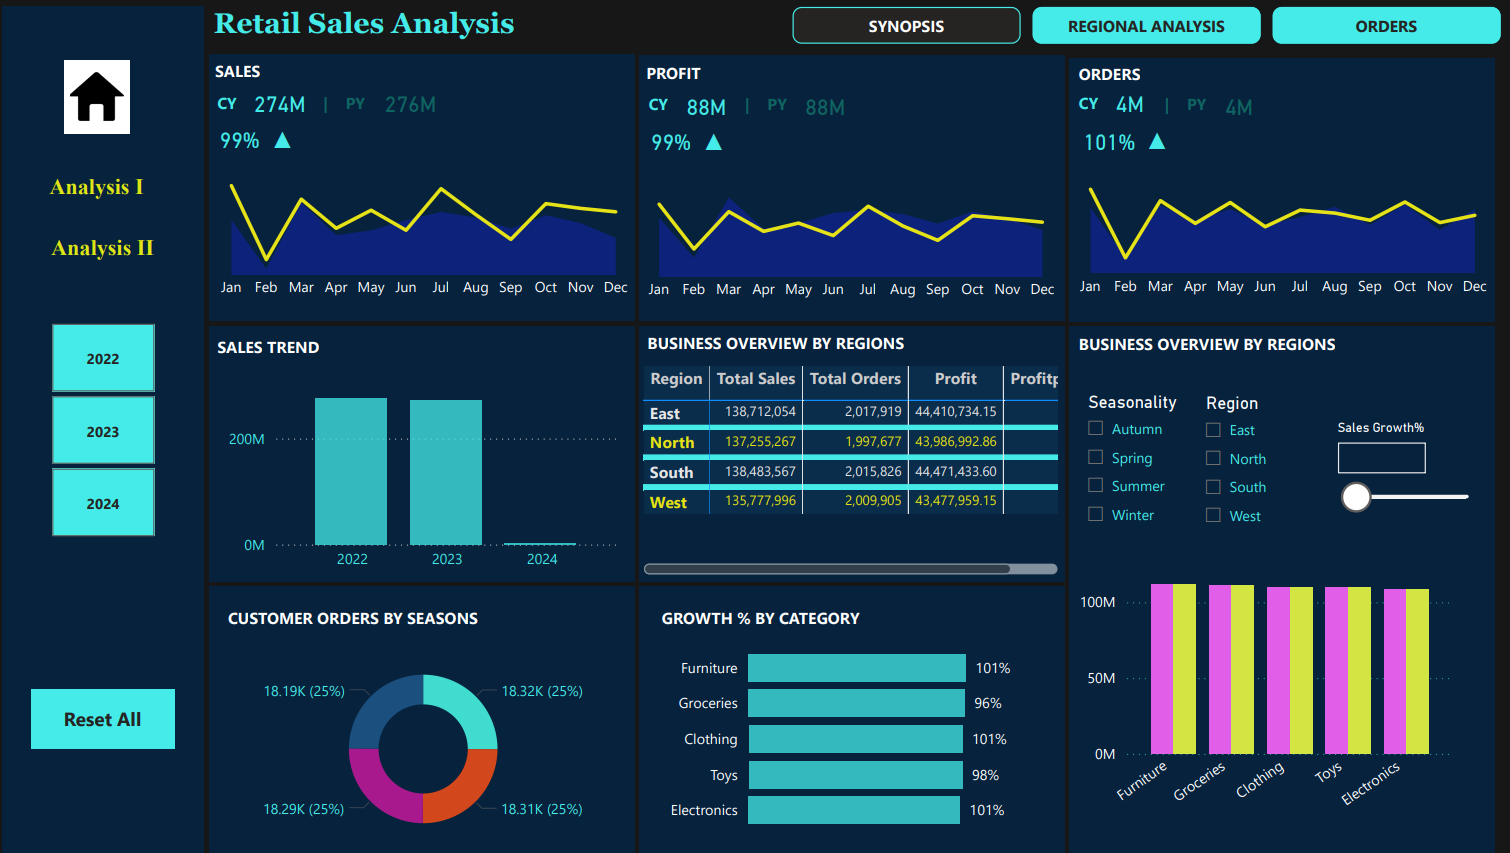

Layout of this report page (visuals, bound fields, positions):
{"tool":"powerbi","page":{"name":"SYNOPSIS","canvas":[1280,720],"ordinal":0},"visuals":[{"type":"shape","box":[543,273.3,358.1,215.1],"z":0},{"type":"shape","box":[543,45.3,358.1,223.3],"z":1000},{"type":"shape","box":[181.4,44.2,358.1,224.4],"z":2000},{"type":"textbox","box":[180.1,0,527.1,44.4],"z":3000},{"type":"areaChart","fields":{"Category":["retail_store_inventory.Month"],"Y2":["retail_store_inventory.CY"],"Y":["retail_store_inventory.PY"]},"box":[182.6,134.9,357,123.3],"z":4000},{"type":"textbox","box":[181.4,44.2,61.6,33.7],"z":5000},{"type":"cardVisual","fields":{"Data":["retail_store_inventory.CY"]},"box":[202.3,51.2,80.2,52.3],"z":6000},{"type":"textbox","box":[182.6,70.9,61.6,39.5],"z":7000},{"type":"textbox","box":[272.1,70.9,61.6,39.5],"z":8000},{"type":"cardVisual","fields":{"Data":["retail_store_inventory.PY"]},"box":[311.6,51.2,81.4,52.3],"z":9000},{"type":"cardVisual","fields":{"Data":["retail_store_inventory.Ppercent"]},"box":[216.3,80.2,55.8,54.7],"z":10000},{"type":"cardVisual","fields":{"Data":["retail_store_inventory.Salesp"]},"box":[173.3,81.4,79.1,51.2],"z":11000},{"type":"areaChart","fields":{"Category":["retail_store_inventory.Month"],"Y2":["retail_store_inventory.Profit CY"],"Y":["retail_store_inventory.Profit PY"]},"box":[543.3,136.7,356,123],"z":12000},{"type":"textbox","box":[544.4,45.6,69.8,33.7],"z":13000},{"type":"cardVisual","fields":{"Data":["retail_store_inventory.Profit CY"]},"box":[566.3,53.5,81.4,52.3],"z":14000},{"type":"textbox","box":[626.7,72.1,61.6,39.5],"z":15000},{"type":"cardVisual","fields":{"Data":["retail_store_inventory.Profit PY"]},"box":[666.3,53.5,81.4,52.3],"z":16000},{"type":"cardVisual","fields":{"Data":["retail_store_inventory.Ppercent"]},"box":[578.8,81.9,55.8,54.7],"z":17000},{"type":"cardVisual","fields":{"Data":["retail_store_inventory.Profitp"]},"box":[535.6,83,79.1,51.2],"z":18000},{"type":"textbox","box":[545.6,72.3,61.6,39.5],"z":19000},{"type":"shape","box":[904.7,46.5,358.1,222.1],"z":20000},{"type":"areaChart","fields":{"Category":["retail_store_inventory.Month"],"Y":["retail_store_inventory.Orders PY"],"Y2":["retail_store_inventory.Orders CY"]},"box":[906,134.4,357,123],"z":21000},{"type":"textbox","box":[907.7,47,74.4,27.9],"z":22000},{"type":"cardVisual","fields":{"Data":["retail_store_inventory.Orders CY"]},"box":[926.7,51.2,81.4,52.3],"z":23000},{"type":"textbox","box":[907.7,71.4,61.6,39.5],"z":24000},{"type":"textbox","box":[980.2,72.1,61.6,39.5],"z":25000},{"type":"cardVisual","fields":{"Data":["retail_store_inventory.Orders PY"]},"box":[1018.6,53.5,81.4,52.3],"z":26000},{"type":"cardVisual","fields":{"Data":["retail_store_inventory.Ordersp"]},"box":[899.5,83,80.2,53.5],"z":27000},{"type":"cardVisual","fields":{"Data":["retail_store_inventory.Ppercent"]},"box":[952.3,81.4,55.8,54.7],"z":28000},{"type":"shape","box":[7,4.7,169.8,711.6],"z":29000},{"type":"image","box":[59.3,48.8,54.7,61.6],"z":30000},{"type":"slicer","fields":{"Values":["retail_store_inventory.Year"]},"box":[23.3,264,136,193],"z":31000},{"type":"actionButton","box":[31.4,579.1,120.9,50],"z":32000},{"type":"shape","box":[181.4,273.3,358.1,215.1],"z":33000},{"type":"shape","box":[181.4,491.9,358.1,224.4],"z":34000},{"type":"shape","box":[543,491.9,358.1,224.4],"z":35000},{"type":"shape","box":[904.7,273.3,358.1,443],"z":36000},{"type":"columnChart","fields":{"Category":["retail_store_inventory.Year"],"Y":["retail_store_inventory.Total Sales"]},"box":[191.9,309.3,338.4,177.9],"z":37000},{"type":"textbox","box":[182.6,276.7,109.3,32.6],"z":38000},{"type":"pivotTable","fields":{"Rows":["retail_store_inventory.Region"],"Values":["retail_store_inventory.Total Sales","retail_store_inventory.Total Orders","retail_store_inventory.Profit","retail_store_inventory.Profitp"]},"box":[541.9,302.3,358.1,184.9],"z":39000},{"type":"textbox","box":[545.4,273.3,289.5,29.1],"z":40000},{"type":"donutChart","fields":{"Category":["retail_store_inventory.Seasonality"],"Y":["CountNonNull(retail_store_inventory.Seasonality)"]},"box":[191.9,543,338.4,172.1],"z":41000},{"type":"textbox","box":[191.9,504.7,238.4,38.4],"z":42000},{"type":"clusteredBarChart","fields":{"Category":["retail_store_inventory.Category"],"Y":["retail_store_inventory.Total Sales"]},"box":[559.3,524.4,333.7,186],"z":43000},{"type":"textbox","box":[557,504.7,238.4,38.4],"z":44000},{"type":"slicer","fields":{"Values":["retail_store_inventory.Seasonality"]},"box":[908.1,324.4,136,126.7],"z":45000},{"type":"slicer","fields":{"Values":["TopN.TopN"]},"box":[1117.9,347,144.1,96.1],"z":46000},{"type":"clusteredColumnChart","fields":{"Category":["retail_store_inventory.Category"],"Y":["retail_store_inventory.Total Sales","retail_store_inventory.New Sales"]},"box":[907.8,465.9,325.4,234.1],"z":47000},{"type":"slicer","fields":{"Values":["retail_store_inventory.Region"]},"box":[1007.4,325.4,103.3,126.1],"z":48000},{"type":"textbox","box":[907.8,273.8,289.4,28.8],"z":49000},{"type":"pageNavigator","box":[27.9,180.2,127.9,55.8],"z":50000},{"type":"actionButton","box":[20.9,132.2,130.8,47.3],"z":51000},{"type":"pageNavigator","box":[672.1,4.7,598.8,31.4],"z":52000}]}

Visuals, with their boxes in screenshot pixels (x1, y1, x2, y2), scaled from the page's 1280x720 canvas onto the 1510x853 screenshot:
shape: 641/324/1063/579
shape: 641/54/1063/318
shape: 214/52/636/318
textbox: 212/0/834/53
areaChart - retail_store_inventory.Month x retail_store_inventory.CY: 215/160/637/306
textbox: 214/52/287/92
cardVisual - retail_store_inventory.CY: 239/61/333/123
textbox: 215/84/288/131
textbox: 321/84/394/131
cardVisual - retail_store_inventory.PY: 368/61/464/123
cardVisual - retail_store_inventory.Ppercent: 255/95/321/160
cardVisual - retail_store_inventory.Salesp: 204/96/298/157
areaChart - retail_store_inventory.Month x retail_store_inventory.Profit CY: 641/162/1061/308
textbox: 642/54/725/94
cardVisual - retail_store_inventory.Profit CY: 668/63/764/125
textbox: 739/85/812/132
cardVisual - retail_store_inventory.Profit PY: 786/63/882/125
cardVisual - retail_store_inventory.Ppercent: 683/97/749/162
cardVisual - retail_store_inventory.Profitp: 632/98/725/159
textbox: 644/86/716/132
shape: 1067/55/1490/318
areaChart - retail_store_inventory.Month x retail_store_inventory.Orders PY: 1069/159/1490/305
textbox: 1071/56/1159/89
cardVisual - retail_store_inventory.Orders CY: 1093/61/1189/123
textbox: 1071/85/1143/131
textbox: 1156/85/1229/132
cardVisual - retail_store_inventory.Orders PY: 1202/63/1298/125
cardVisual - retail_store_inventory.Ordersp: 1061/98/1156/162
cardVisual - retail_store_inventory.Ppercent: 1123/96/1189/161
shape: 8/6/209/849
image: 70/58/134/131
slicer - retail_store_inventory.Year: 27/313/188/541
actionButton: 37/686/180/745
shape: 214/324/636/579
shape: 214/583/636/849
shape: 641/583/1063/849
shape: 1067/324/1490/849
columnChart - retail_store_inventory.Year x retail_store_inventory.Total Sales: 226/366/626/577
textbox: 215/328/344/366
pivotTable - retail_store_inventory.Region x retail_store_inventory.Total Sales: 639/358/1062/577
textbox: 643/324/985/358
donutChart - retail_store_inventory.Seasonality x CountNonNull(retail_store_inventory.Seasonality): 226/643/626/847
textbox: 226/598/508/643
clusteredBarChart - retail_store_inventory.Category x retail_store_inventory.Total Sales: 660/621/1053/842
textbox: 657/598/938/643
slicer - retail_store_inventory.Seasonality: 1071/384/1232/534
slicer - TopN.TopN: 1319/411/1489/525
clusteredColumnChart - retail_store_inventory.Category x retail_store_inventory.Total Sales: 1071/552/1455/829
slicer - retail_store_inventory.Region: 1188/386/1310/535
textbox: 1071/324/1412/358
pageNavigator: 33/213/184/280
actionButton: 25/157/179/213
pageNavigator: 793/6/1499/43
